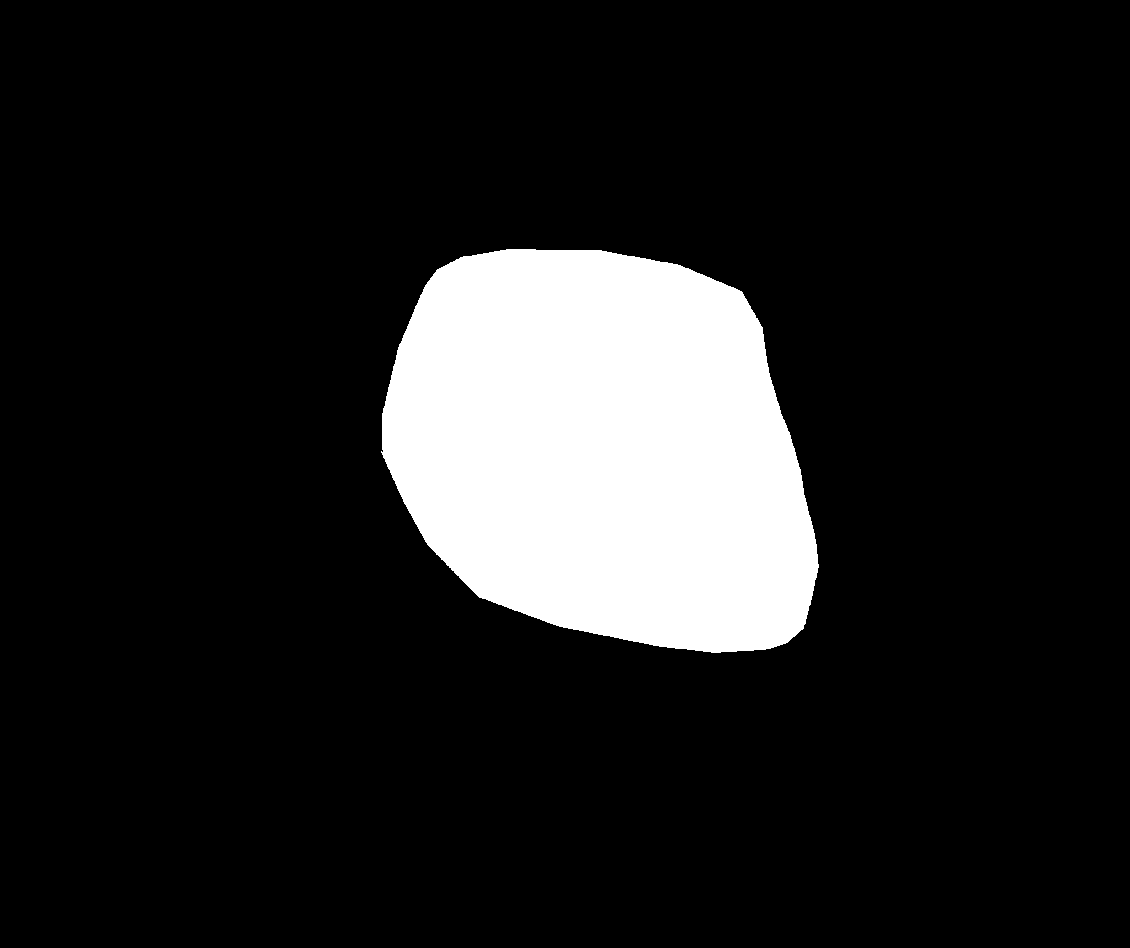heart: (383, 283, 823, 636)
left_lung: (124, 128, 481, 628)
right_lung: (746, 150, 1009, 759)
